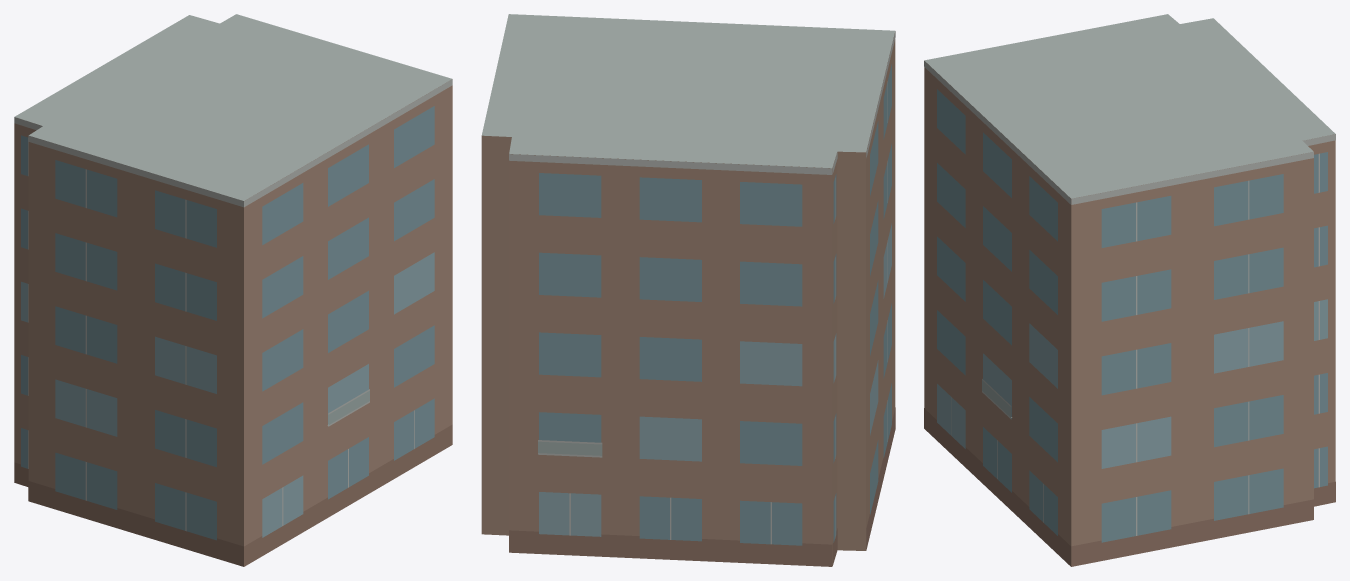
File: survey-upis-32700643.glb
3 views of the same model, side by side, from view 1: azimuth 30°, elevation 25°; view 2: azimuth 150°, elevation 25°; view 3: azimuth 270°, elevation 25° (orthographic). The views are drawn at different scales.
Parts seen in each view (by area): view 1: survey-upis-32700643.tmp; view 2: survey-upis-32700643.tmp; view 3: survey-upis-32700643.tmp.
Part boxes in pixels (x1=…): survey-upis-32700643.tmp: x1=14, y1=14, x2=452, y2=566; survey-upis-32700643.tmp: x1=481, y1=14, x2=895, y2=566; survey-upis-32700643.tmp: x1=924, y1=14, x2=1335, y2=566.
Size of the model in its own units: 15.29 by 14.2 by 14.4.
